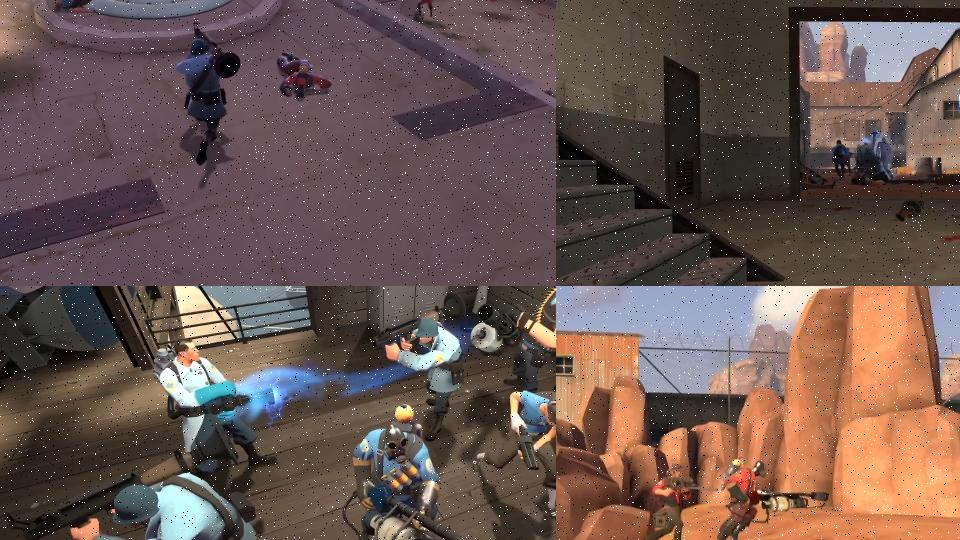Enemy: (0, 417, 272, 540), (340, 399, 538, 540), (150, 337, 282, 487), (370, 290, 470, 443), (470, 389, 556, 526), (709, 455, 830, 540), (469, 286, 556, 393), (181, 28, 242, 164), (643, 463, 719, 540), (270, 52, 335, 103), (876, 137, 894, 179), (831, 139, 849, 179), (54, 0, 111, 12), (421, 0, 436, 17)
